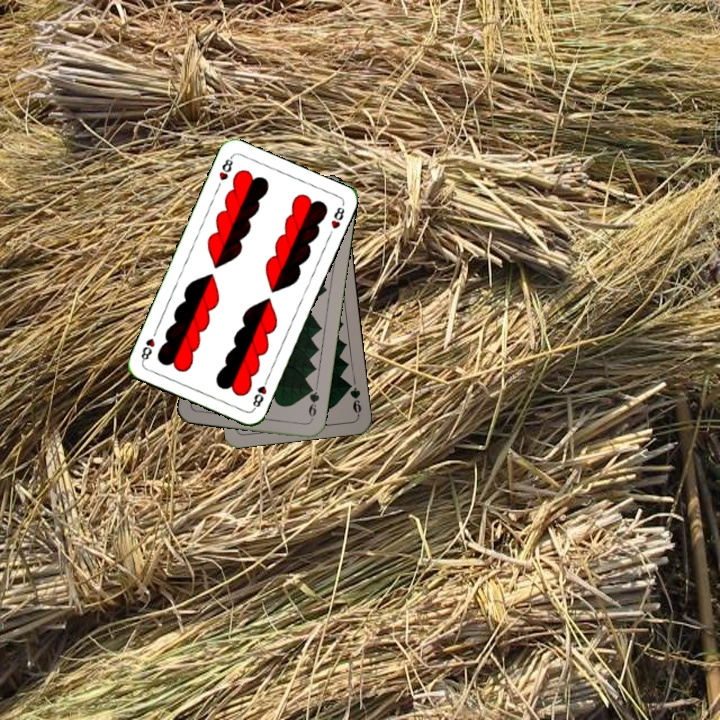G9: (343, 378, 364, 418), (305, 382, 322, 423)
H8: (249, 373, 271, 412), (215, 152, 236, 183)
